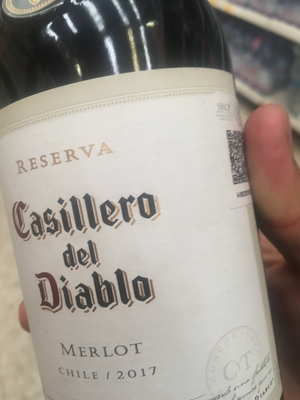casillero del diablo merlot: (3, 4, 277, 400)
